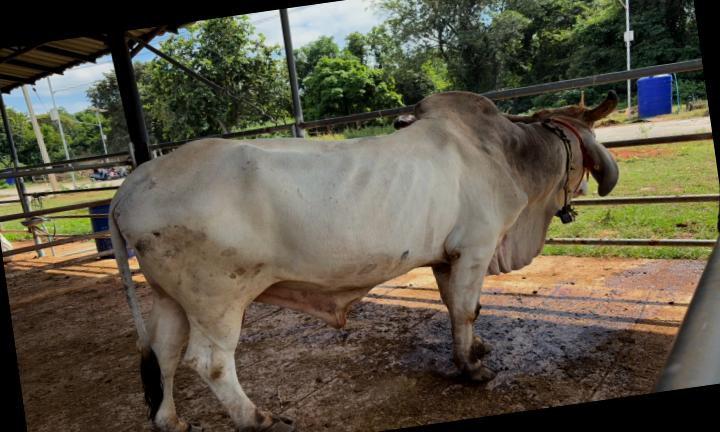Brahman: (108, 91, 618, 432)
